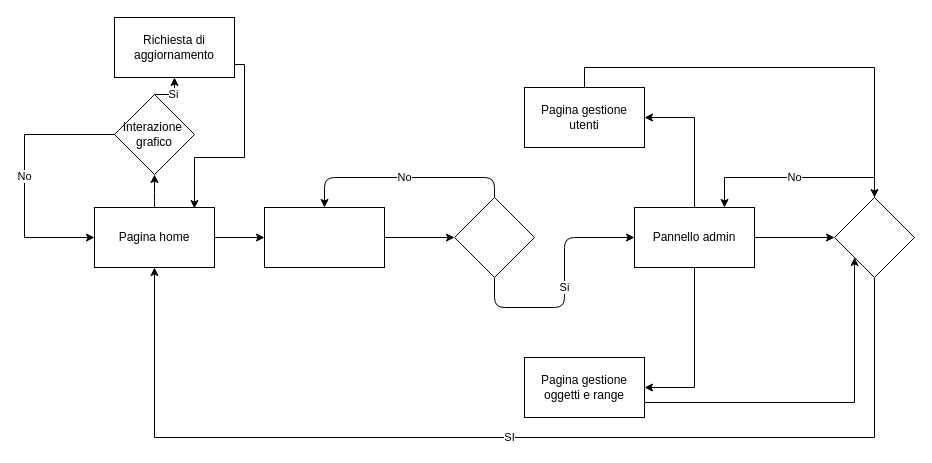
The diagram is 932 pixels wide and 463 high, and some of its shapes have lost their labels. The centre of each missing label's shape, as x and y in pixels:
"Login effetuato?" goes at point 494,237.
"Logout?" goes at point 874,237.
"Pagina login" goes at point 324,237.
